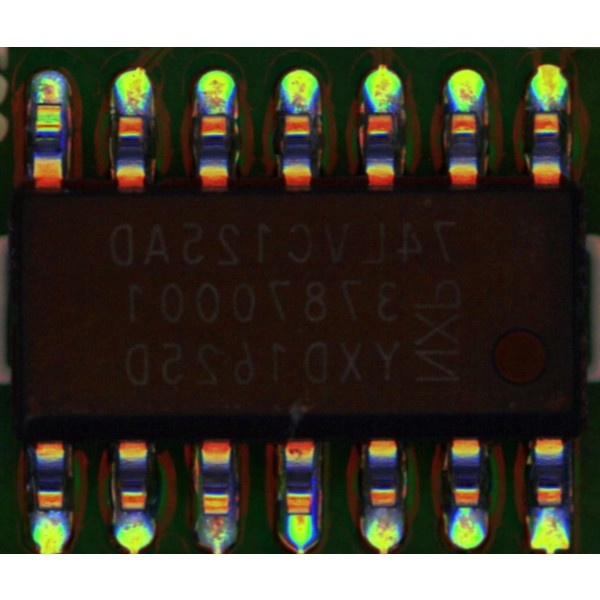Bad_podu: (37, 86, 59, 119), (288, 508, 311, 524)
